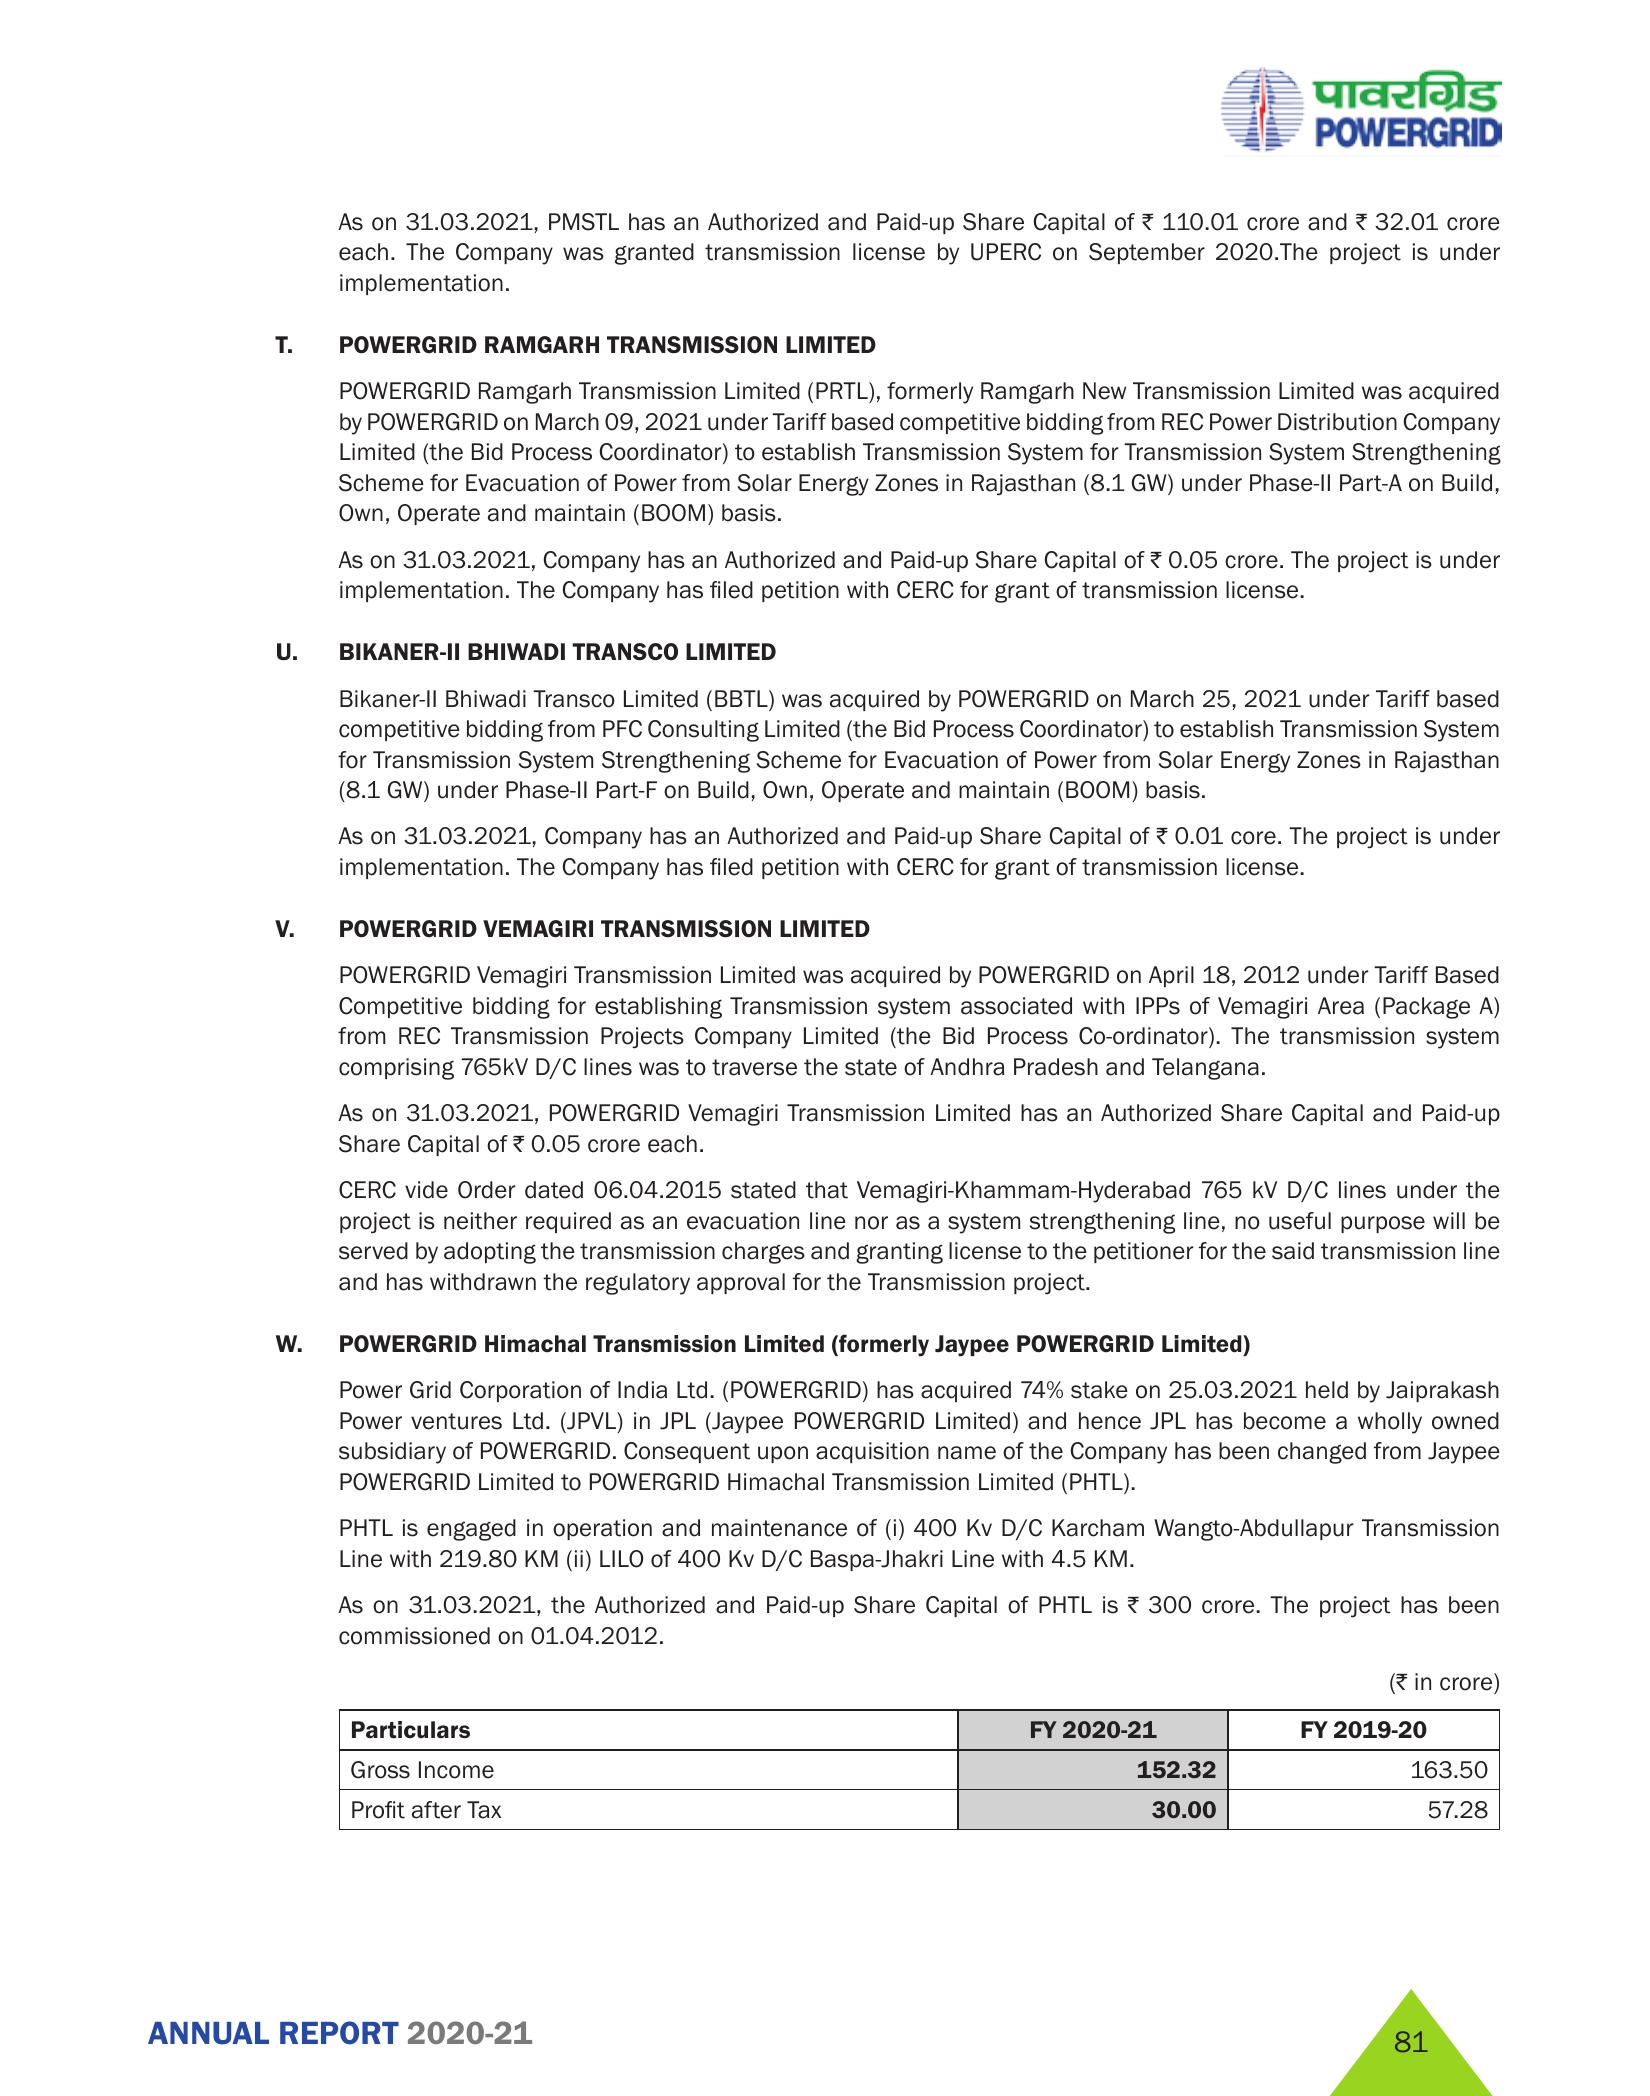Footer: (0, 1968, 1650, 2096)
Header: (0, 0, 1650, 158)
Table: (265, 1676, 1524, 1839)
